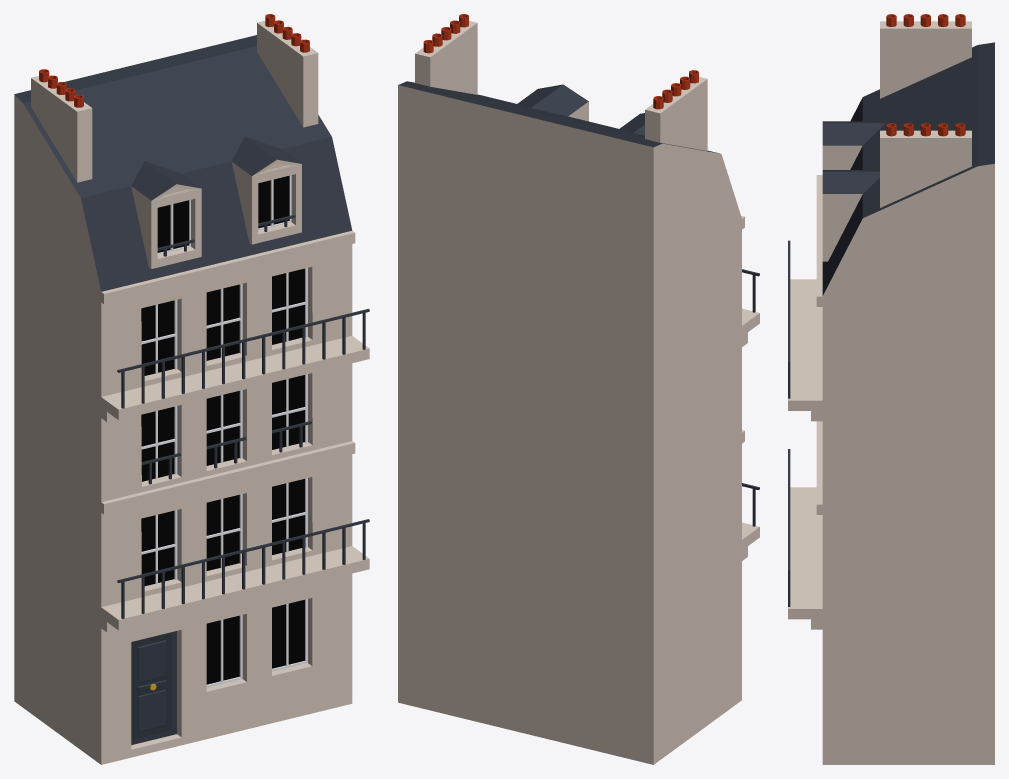
The model's file is building.glb.
3 renders of one model, left to right at view 1: azimuth 30°, elevation 25°; view 2: azimuth 150°, elevation 25°; view 3: azimuth 270°, elevation 25°, orthographic. The views are drawn at different scales.
Visible parts, largest first — view 1: Cube, Cube.025, Cube.022, Cube.009, Cylinder.001; view 2: Cube, Cube.022, Cylinder.001; view 3: Cube, Cube.022, Cylinder.001, Cube.009.
Part boxes in pixels (x1,y1,x2,y2): Cube: (14, 20, 369, 764); Cube.025: (131, 175, 307, 744); Cube.022: (131, 136, 312, 737); Cube.009: (101, 215, 369, 632); Cylinder.001: (39, 14, 309, 107); Cube: (398, 20, 759, 764); Cube.022: (517, 84, 644, 135); Cylinder.001: (423, 14, 698, 109); Cube: (788, 21, 994, 764); Cube.022: (822, 121, 885, 261); Cylinder.001: (886, 14, 965, 136); Cube.009: (788, 240, 822, 629).
Size of the model in its own units: 5 by 12.17 by 3.6.
Materials: 1 (1 with a texture image).
